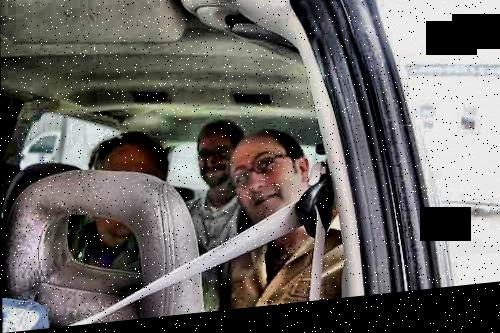seatbelt: (90, 201, 336, 309)
